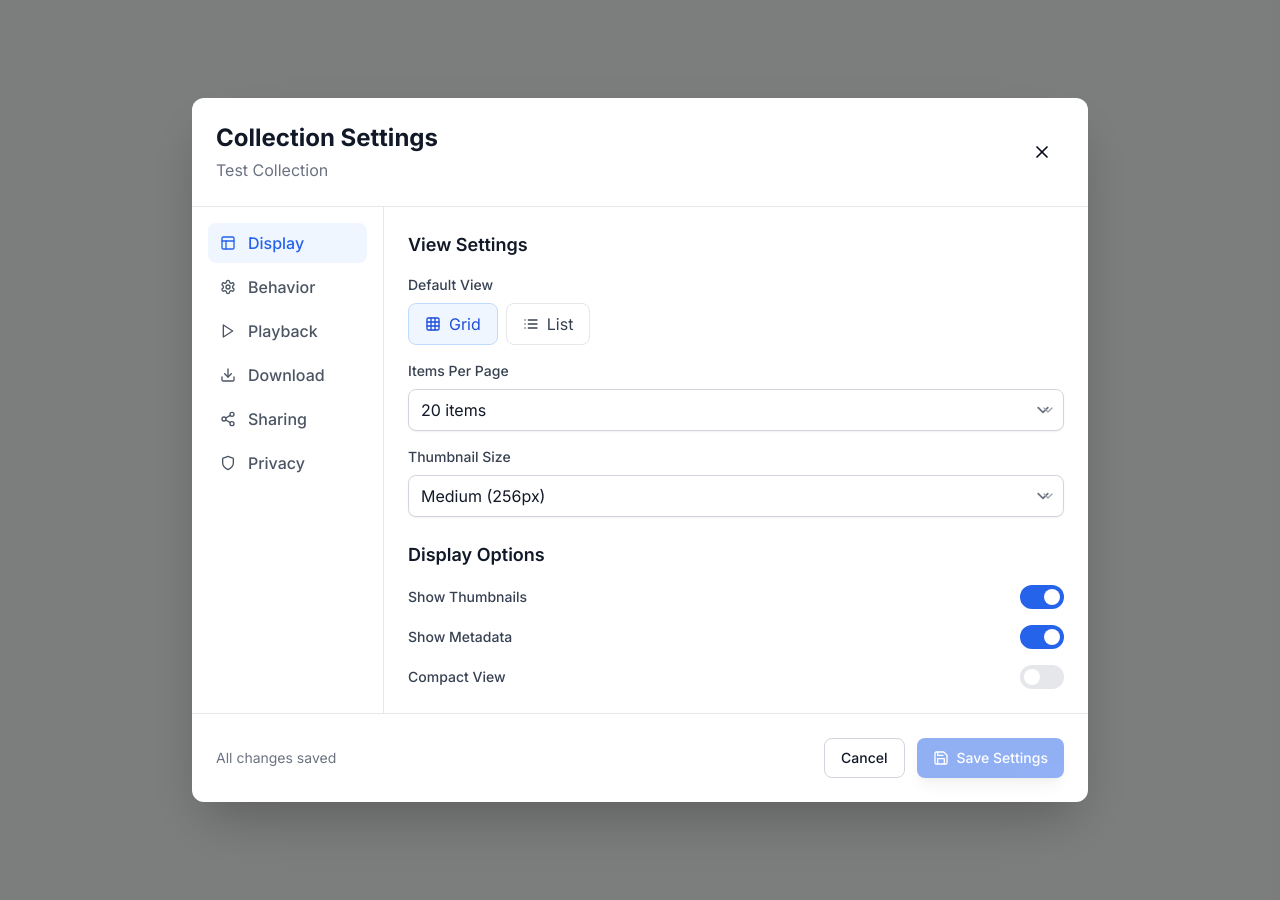
Scenario: CollectionSettings › switches to Playback tab
Click the button "Playback".
click(288, 331)  # box [208,311,367,351]
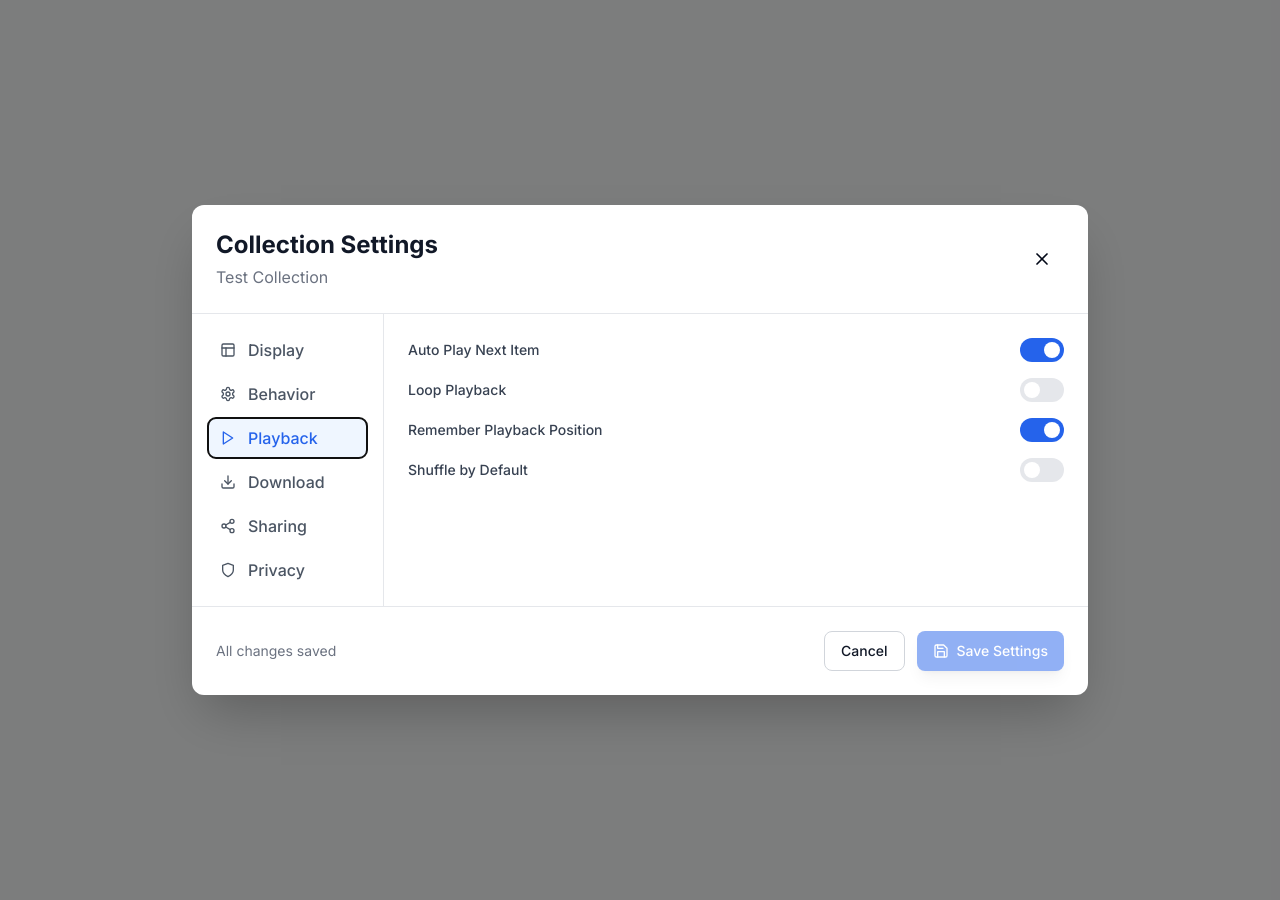
Check: the text "Auto Play Next Item" is shown, box [408,340,540,360]
Check: the text "Loop Playback" is shown, box [408,380,506,400]
Check: the text "Remember Playback Position" is shown, box [408,420,602,440]
